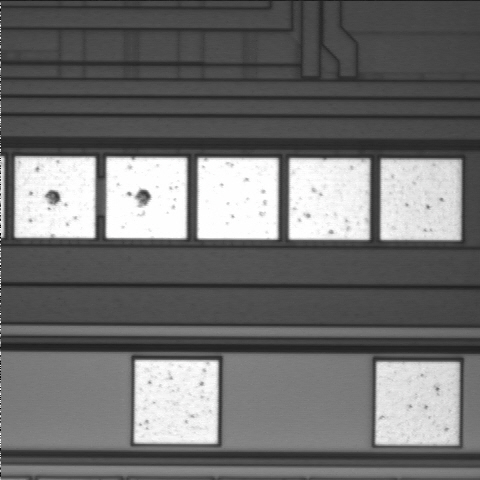pad: (134, 360, 218, 444), (375, 362, 459, 445), (197, 158, 279, 240), (106, 157, 187, 239), (289, 158, 370, 240), (15, 157, 96, 238), (380, 159, 461, 240)
